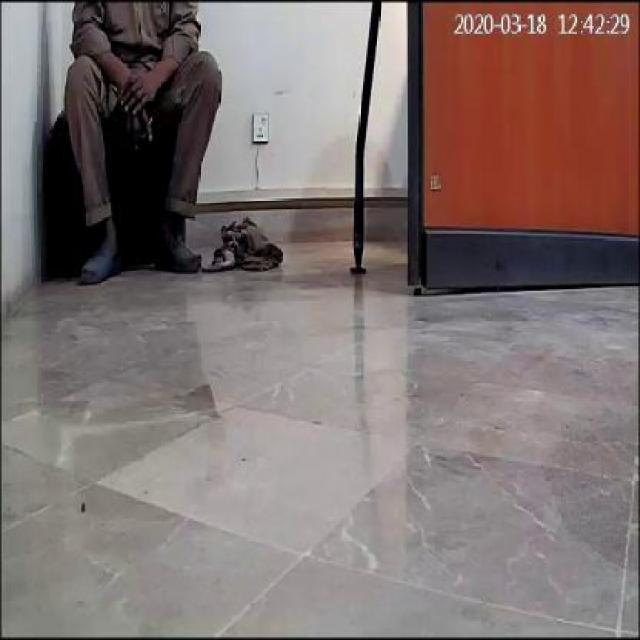spill: (165, 356, 273, 430)
